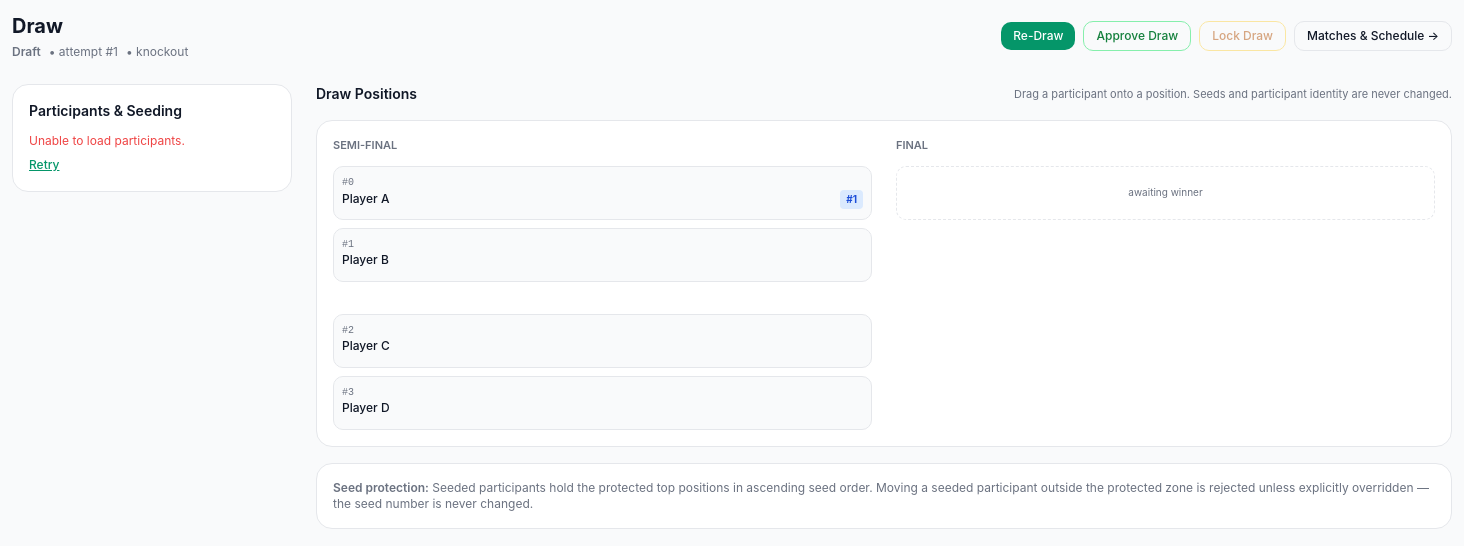
Test: TournamentDrawPage — F-02 fetch-error states › participants failure: sidebar shows error + Retry (not "No participants yet.") while the draw board still renders; Retry recovers the list
Expected: the text "Unable to load participants." is shown, [29, 133, 185, 148]
Expected: the text "Semi-final" is shown, [333, 138, 397, 152]
Click the button "Retry" at point(44, 165), box [29, 157, 60, 173]
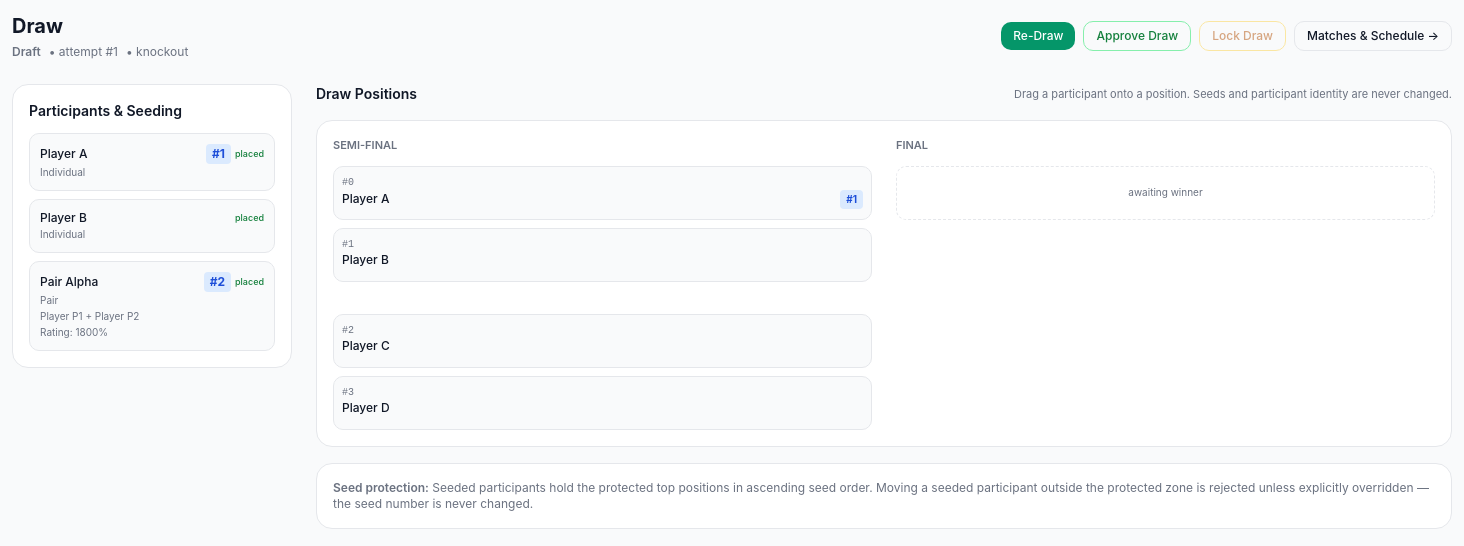
Expected: the text "Player P1 + Player P2" is shown, [40, 310, 139, 322]
